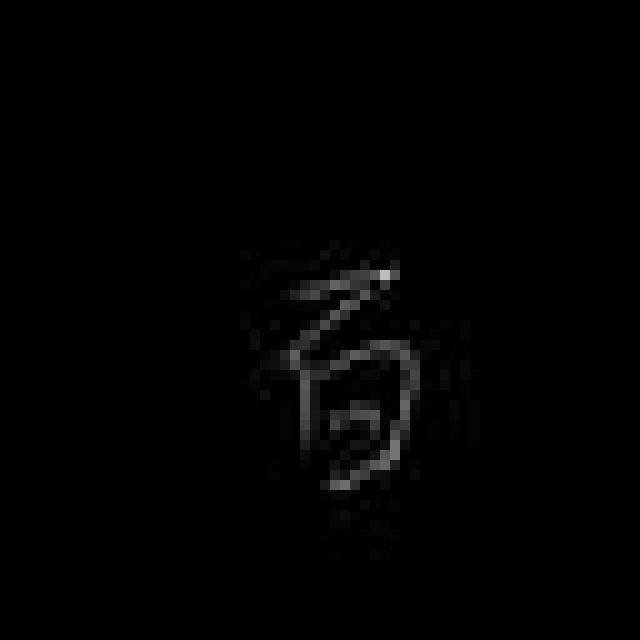100 -a hundred-: (278, 259, 425, 498)
